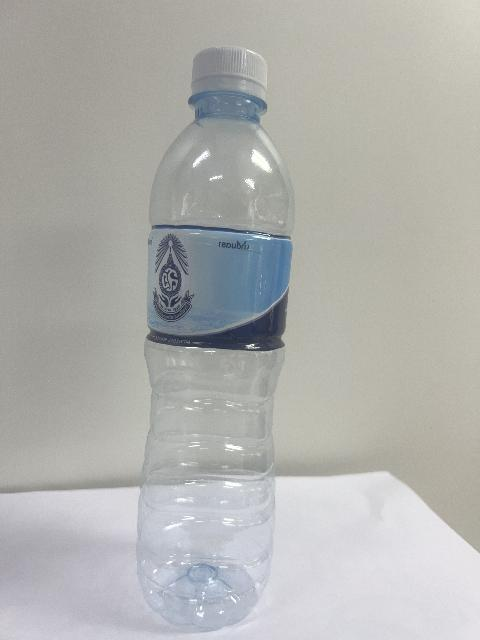bottle: (136, 47, 292, 629)
